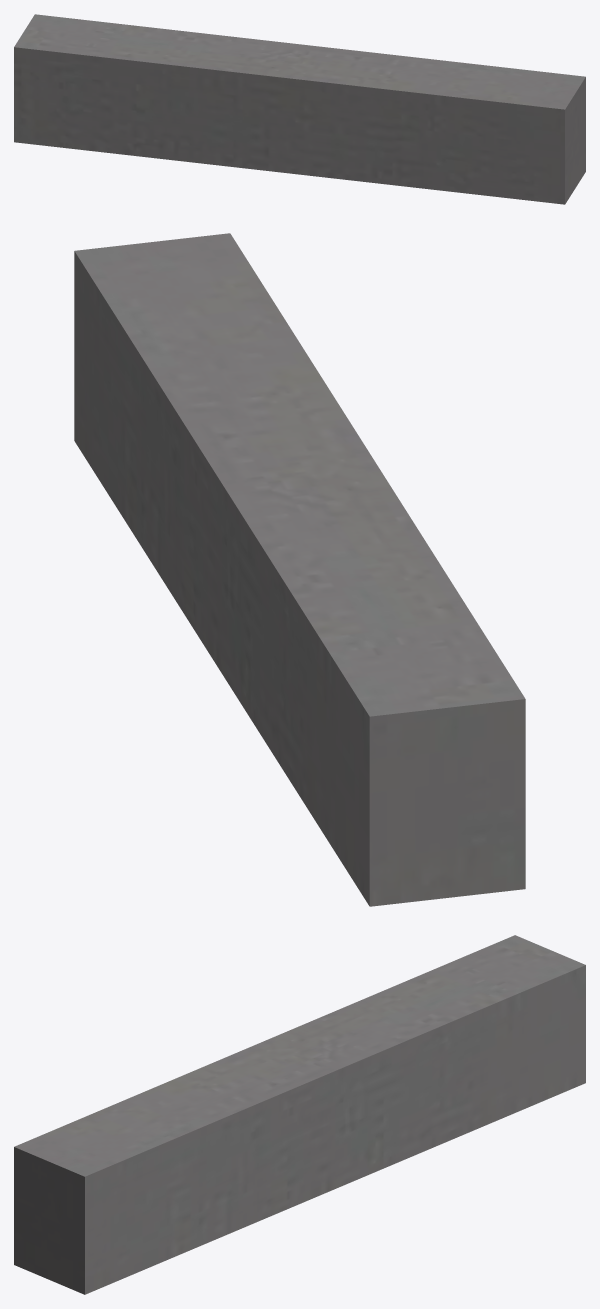
Rendered from frame__front_roller_strut.glb.
3 renders of one model, top to bottom at view 1: azimuth 30°, elevation 25°; view 2: azimuth 150°, elevation 25°; view 3: azimuth 270°, elevation 25°, orthographic. The views are drawn at different scales.
Visible parts, largest first — view 1: world; view 2: world; view 3: world.
Boxes of the visible parts, x1,y1,x2,y2 form: world: (14, 14, 585, 204); world: (74, 233, 525, 906); world: (14, 935, 585, 1294).
Size of the model in its own units: 0.2854 by 0.065 by 0.2854.
Materials: 1 (1 with a texture image).
